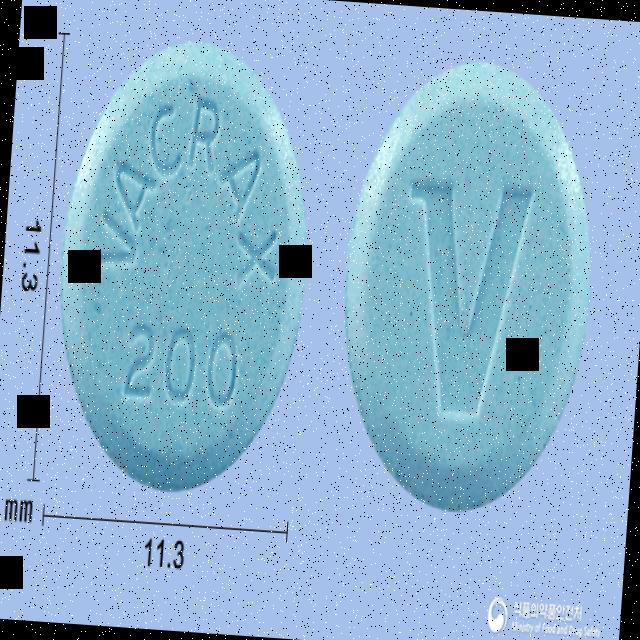Vacrax Tab: (328, 51, 608, 518), (45, 31, 323, 498)
